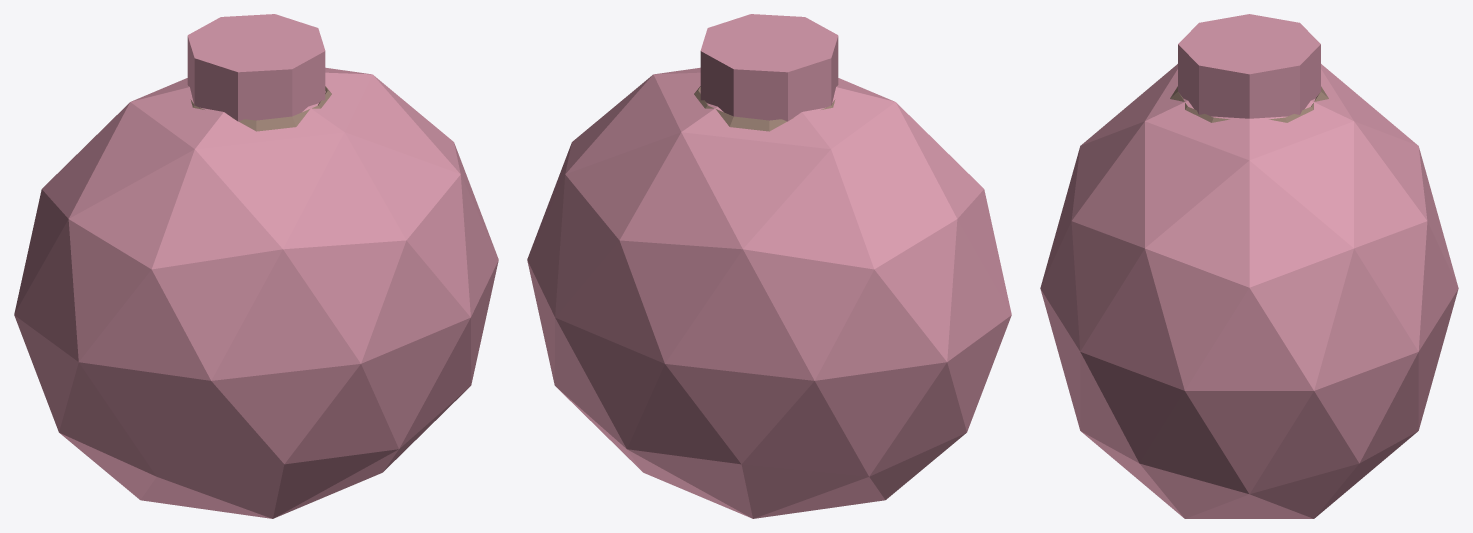
The model's file is cargo_food.fbx.
3 views of the same model, side by side, from view 1: azimuth 30°, elevation 25°; view 2: azimuth 150°, elevation 25°; view 3: azimuth 270°, elevation 25° (orthographic).
Visible parts, largest first — view 1: cargo_food_mesh; view 2: cargo_food_mesh; view 3: cargo_food_mesh.
Part boxes in pixels (<box>): cargo_food_mesh: <box>14,14,498,518</box>; cargo_food_mesh: <box>527,14,1011,518</box>; cargo_food_mesh: <box>1040,14,1458,518</box>.
Size of the model in its own units: 0.4375 by 0.459 by 0.3772.
